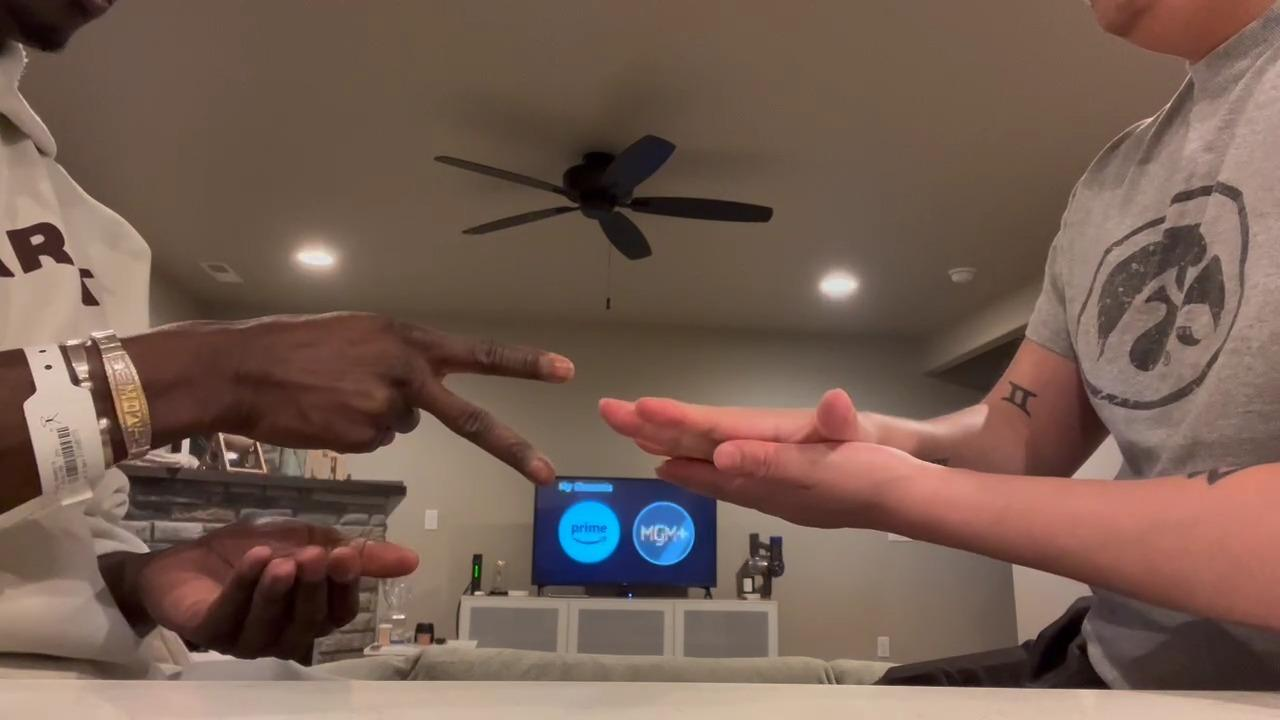Paper: (596, 393, 903, 454)
Scissors: (223, 307, 571, 494)
